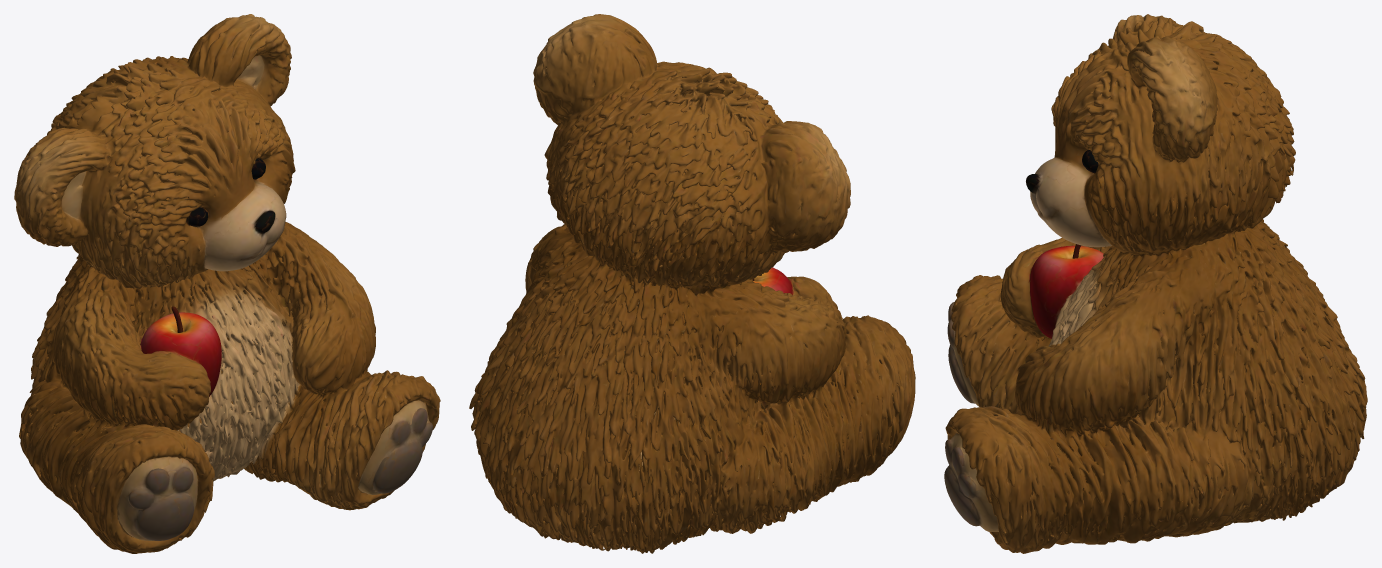
Rendered from generation_teddy_1.glb.
3 renders of one model, left to right at view 1: azimuth 30°, elevation 25°; view 2: azimuth 150°, elevation 25°; view 3: azimuth 270°, elevation 25°, orthographic. The views are drawn at different scales.
Visible parts, largest first — view 1: geometry_0; view 2: geometry_0; view 3: geometry_0.
Part boxes in pixels (x1=…): geometry_0: x1=14, y1=14, x2=440, y2=553; geometry_0: x1=469, y1=14, x2=915, y2=553; geometry_0: x1=944, y1=14, x2=1367, y2=553.
Size of the model in its own units: 0.808 by 0.9973 by 0.8024.
1 material, 1 textured.
